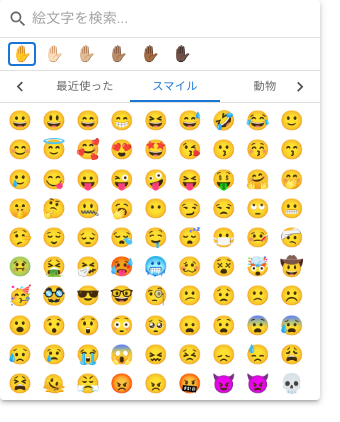
it: EmojiPicker 拡充機能 › 絵文字名による検索 › 検索結果が 0 件のとき「見つかりません」などのメッセージが表示される
Type "xyzxyzxyz_no_match" into the search field. click: {"x": 172, "y": 19}
box: [32,4,312,33]
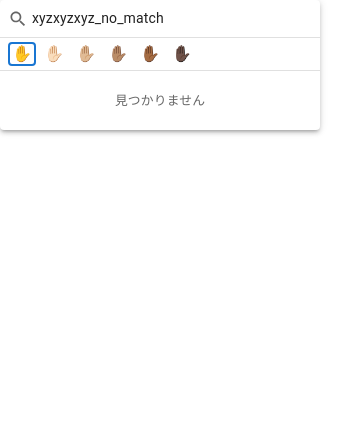
Expected: the text "見つかりません" is shown, [115,93,205,108]
